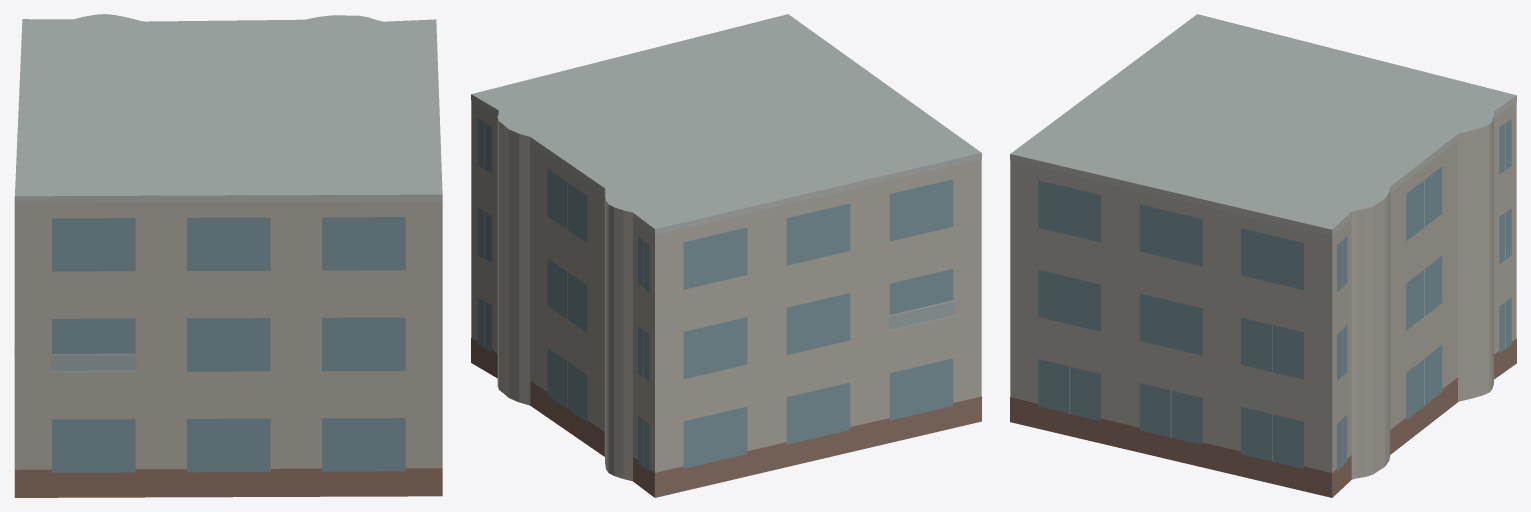
The model's file is survey-upis-32964238.glb.
3 renders of one model, left to right at view 1: azimuth 30°, elevation 25°; view 2: azimuth 150°, elevation 25°; view 3: azimuth 270°, elevation 25°, orthographic. The views are drawn at different scales.
Parts seen in each view (by area): view 1: survey-upis-32964238.tmp; view 2: survey-upis-32964238.tmp; view 3: survey-upis-32964238.tmp.
Boxes of the visible parts, box(x1,y1,x2,y2) form: survey-upis-32964238.tmp: box(14, 14, 442, 497); survey-upis-32964238.tmp: box(471, 14, 981, 497); survey-upis-32964238.tmp: box(1010, 14, 1516, 497).
Bounding box in the file's own units: 17.61 × 10.2 × 17.48.
